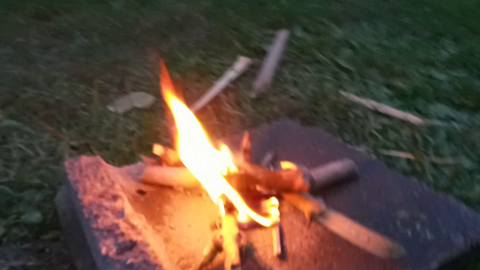fire: (136, 55, 287, 215)
